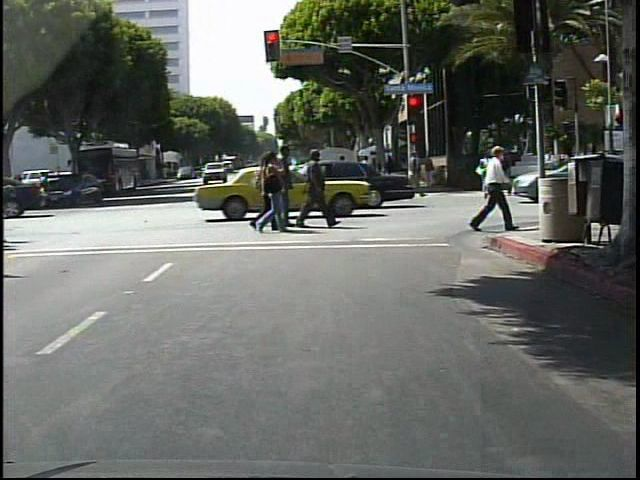person: (473, 140, 515, 237)
